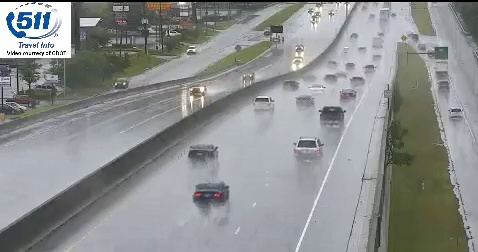car: (194, 182, 229, 204), (294, 138, 322, 159), (189, 143, 217, 163), (320, 106, 344, 124), (254, 96, 273, 110)
